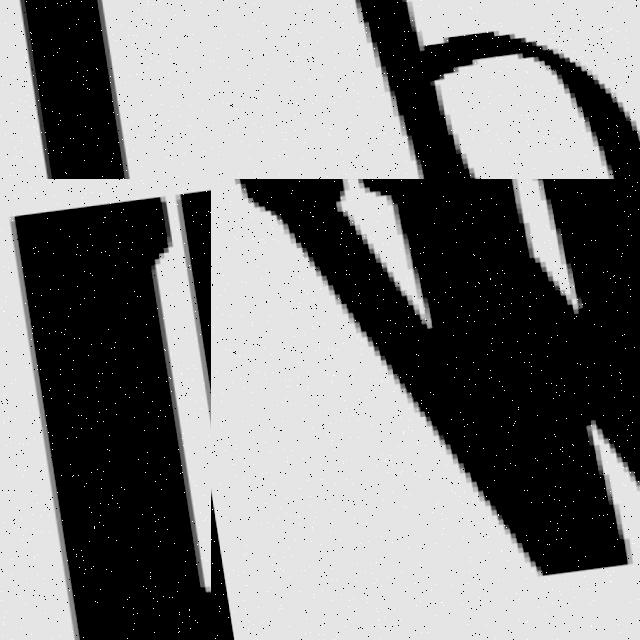D: (296, 0, 640, 179)
N: (0, 0, 140, 179)
U: (0, 179, 211, 640)
W: (219, 179, 640, 615)
